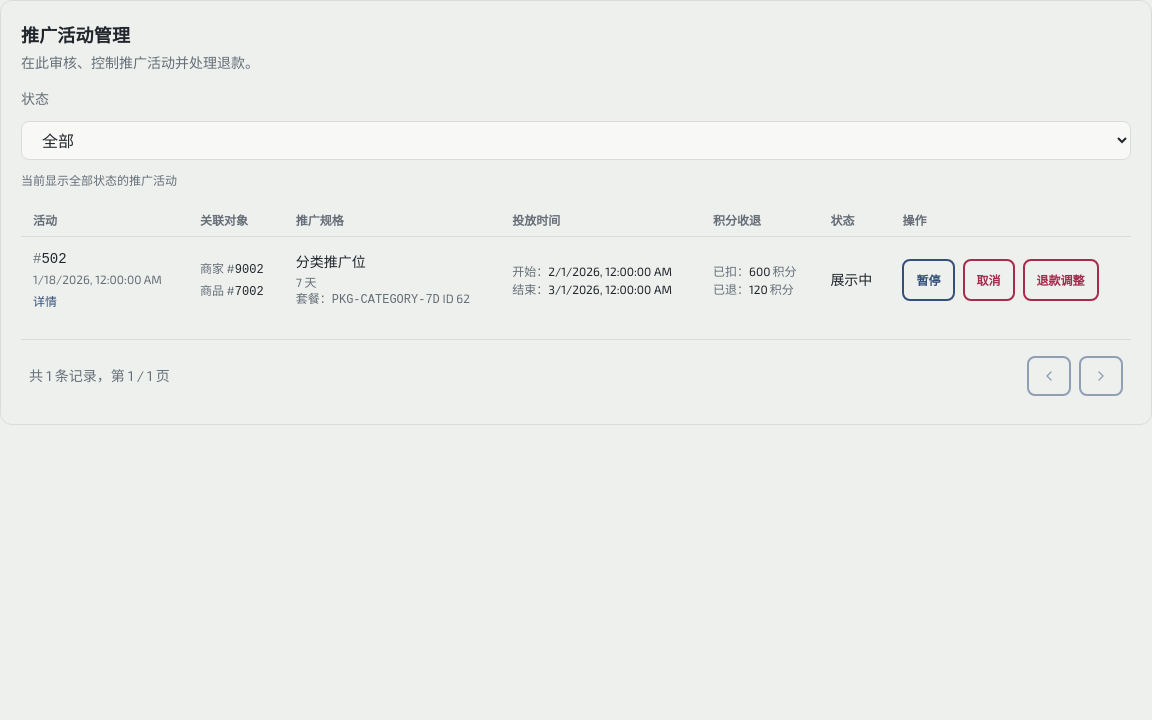
AdminPromotionCampaignManager (refund-adjustment) › active refund success: points 120 + a padded reason on active 502 → createIdempotencyKey returns refund-key and adjustRefund(502, { points: 120, reason: trimmed
Expected: the table named "推广活动列表" is shown, [21,204,1131,323]
Click the button with aria-label "退款调整（活动 ID 502）". click: coordinates (1060, 280)
box: [1022,259,1098,301]
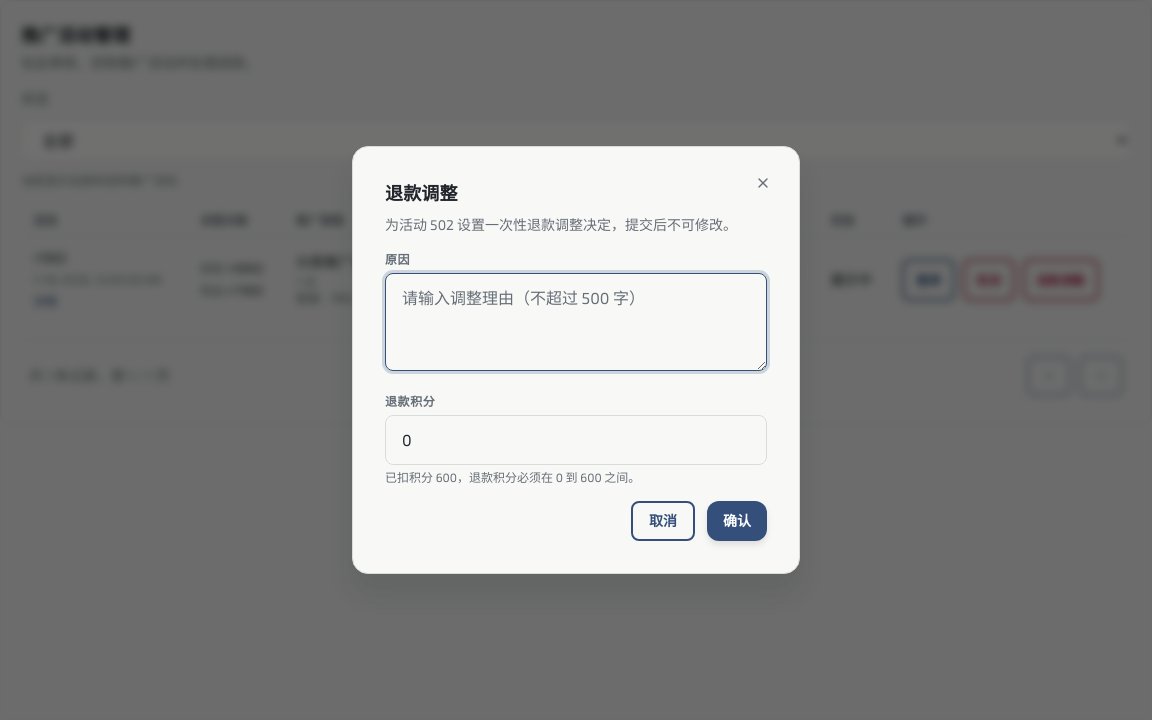
Type "120" into the field labelled "退款积分". click: coordinates (576, 440)
box: [385,415,767,465]
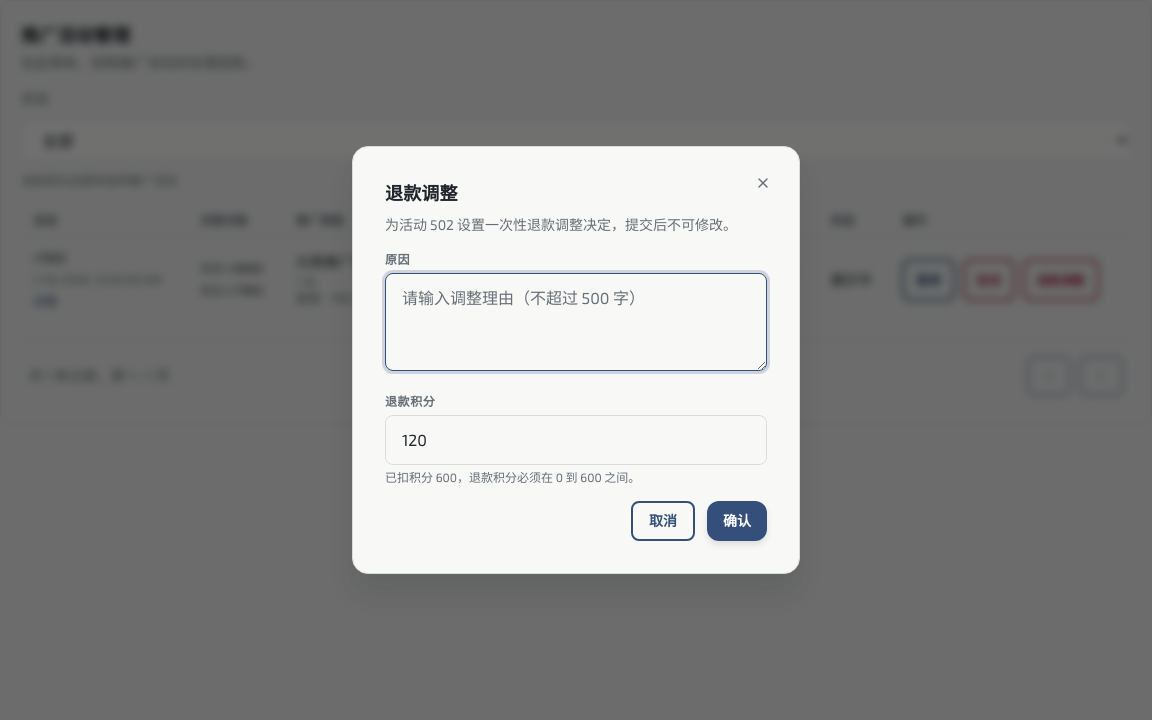
Type "  商家申请退款调整  " into the text box labelled "原因". click: coordinates (576, 322)
box: [385,273,767,371]
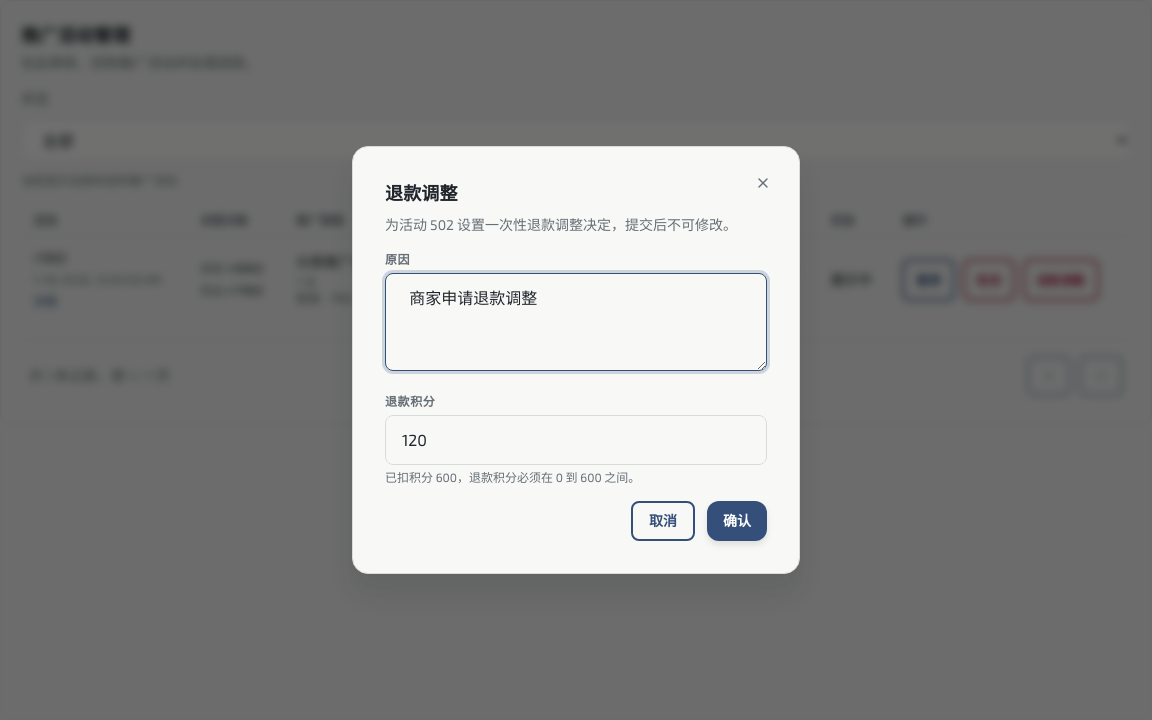
Click the button "确认". click: coordinates (737, 521)
box: [707,501,767,541]
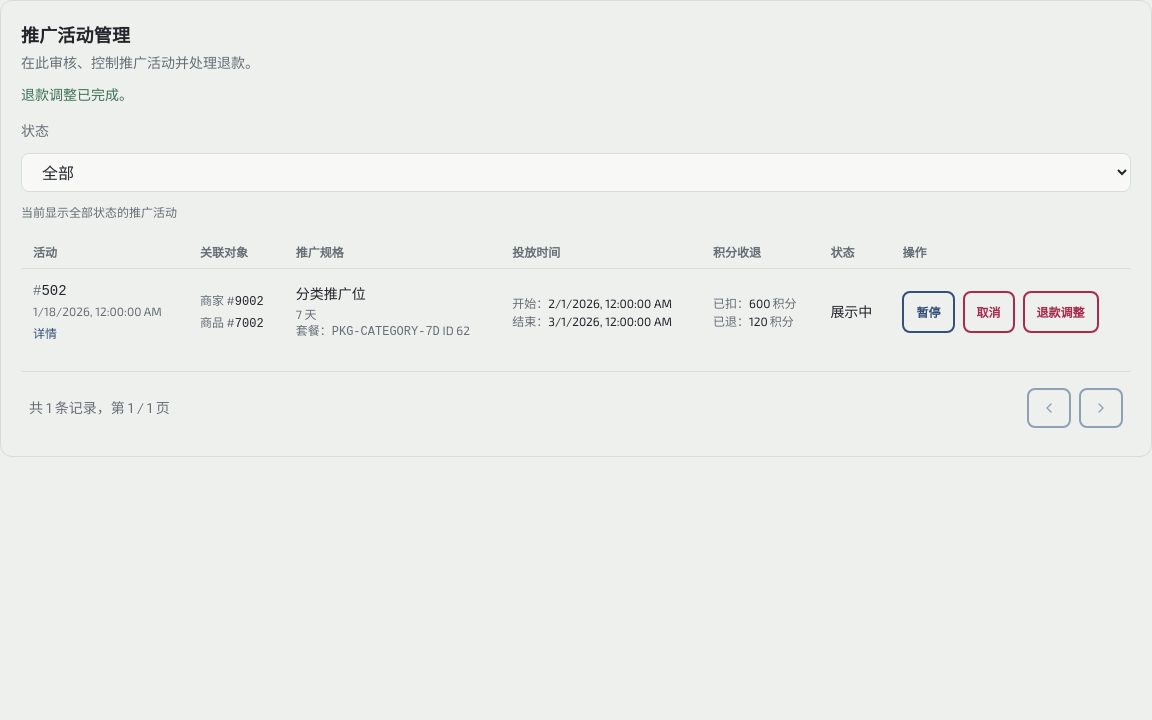
Expected: the table named "推广活动列表" is shown, [21,236,1131,355]
Expected: the dialog is gone
